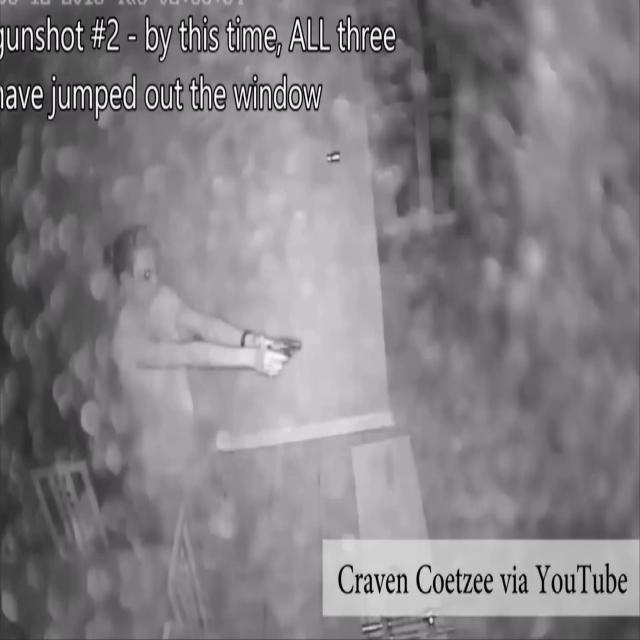weapon: (263, 336, 305, 367)
